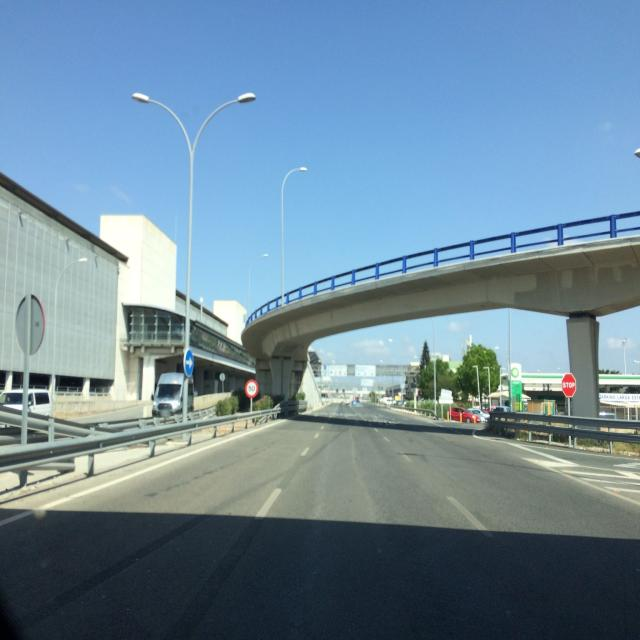car: (151, 372, 195, 417), (450, 406, 482, 423), (490, 405, 512, 414), (350, 397, 362, 406)
